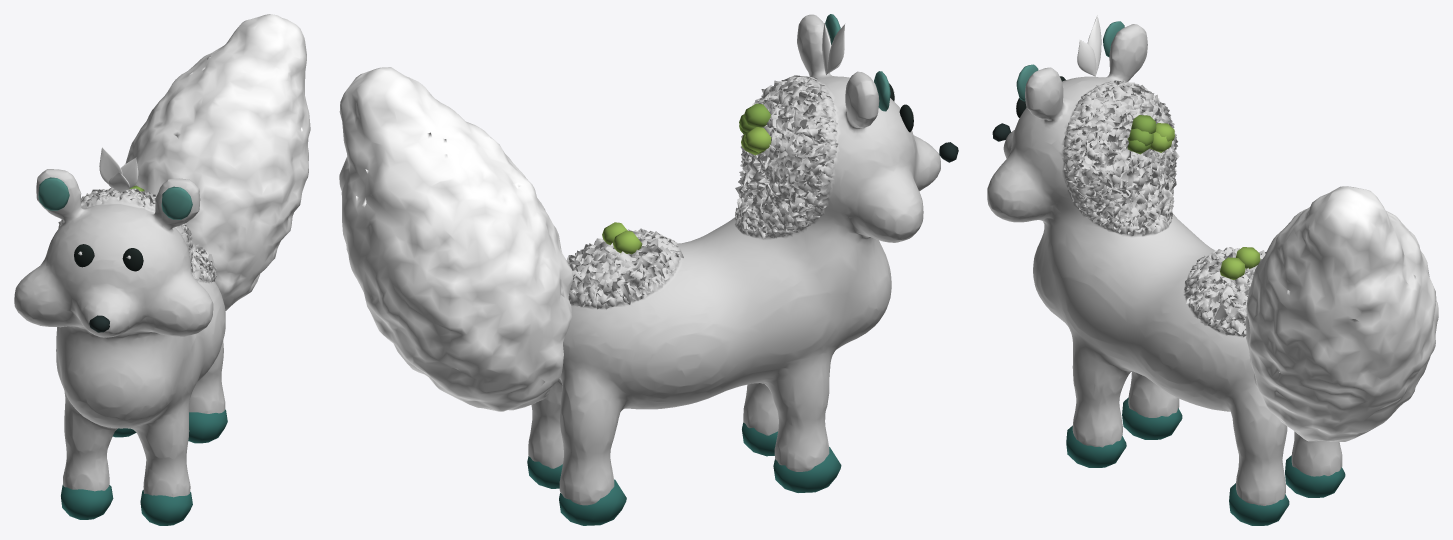
File: kitsune.glb
The picture shows the model from 3 angles, left to right: view 1: azimuth 30°, elevation 25°; view 2: azimuth 150°, elevation 25°; view 3: azimuth 270°, elevation 25°; orthographic projection. The views are drawn at different scales.
Visible parts, largest first — view 1: fox, tail, Sphere, Sphere.001, Sphere.003, Sphere.004, Sphere.005, Sphere.009, Sphere.012, Sphere.007, Sphere.010; view 2: fox, tail, Sphere, Sphere.002, Sphere.001, Sphere.003; view 3: fox, tail, Sphere, Sphere.002, Sphere.001, Sphere.003, Sphere.010.
Part boxes in pixels (left/top/right/bottom): fox: left=14, top=169, right=225, bottom=497; tail: left=125, top=14, right=310, bottom=311; Sphere: left=61, top=485, right=113, bottom=519; Sphere.001: left=140, top=490, right=192, bottom=525; Sphere.003: left=188, top=409, right=227, bottom=443; Sphere.004: left=38, top=177, right=69, bottom=210; Sphere.005: left=161, top=186, right=192, bottom=219; Sphere.009: left=99, top=147, right=122, bottom=184; Sphere.012: left=122, top=248, right=143, bottom=271; Sphere.007: left=74, top=244, right=94, bottom=267; Sphere.010: left=121, top=157, right=138, bottom=188; fox: left=528, top=14, right=940, bottom=505; tail: left=339, top=67, right=573, bottom=411; Sphere: left=773, top=447, right=841, bottom=492; Sphere.002: left=559, top=479, right=626, bottom=525; Sphere.001: left=742, top=422, right=777, bottom=456; Sphere.003: left=527, top=456, right=562, bottom=488; fox: left=987, top=24, right=1342, bottom=505; tail: left=1245, top=186, right=1438, bottom=441; Sphere: left=1122, top=397, right=1182, bottom=439; Sphere.002: left=1285, top=455, right=1345, bottom=497; Sphere.001: left=1066, top=426, right=1126, bottom=467; Sphere.003: left=1229, top=483, right=1289, bottom=525; Sphere.010: left=1077, top=39, right=1096, bottom=76.
Size of the model in its own units: 1.22 by 1.17 by 1.15.
